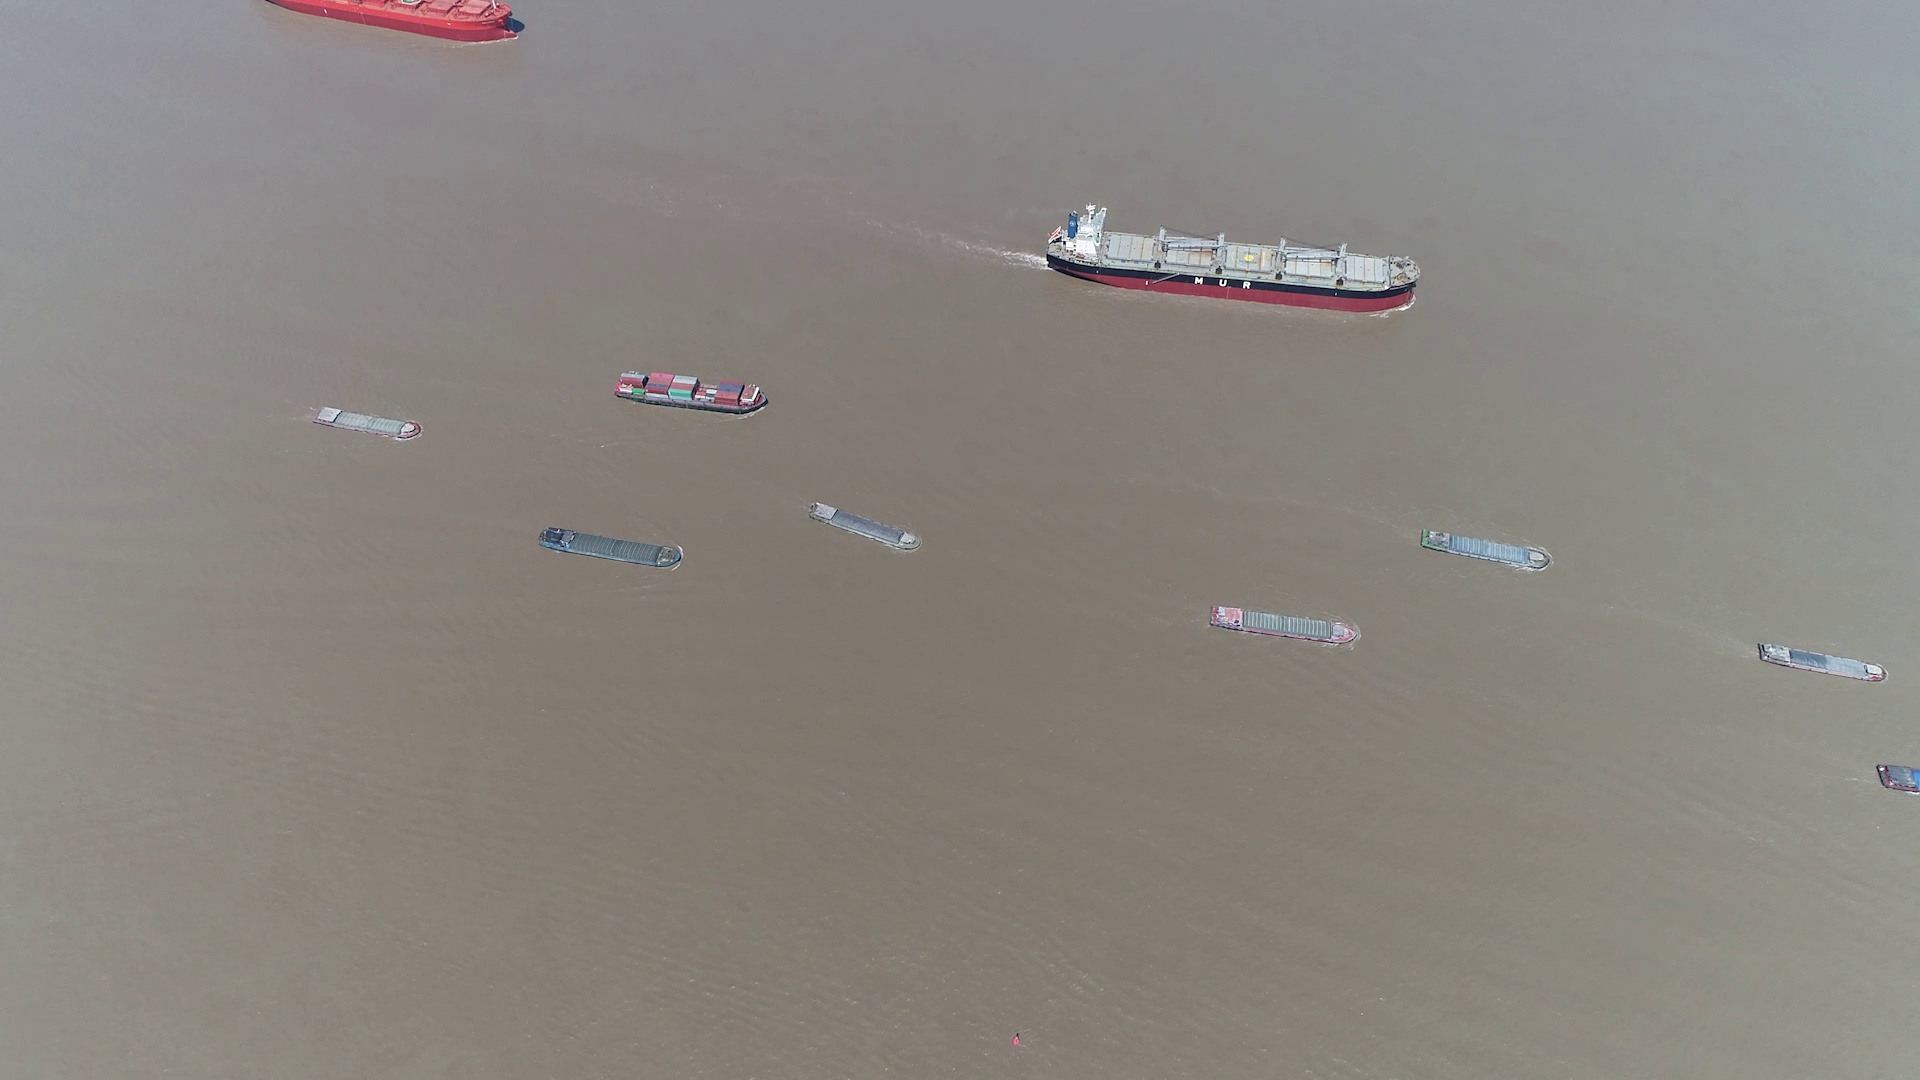ship: (1048, 207, 1422, 309), (265, 0, 524, 46), (615, 372, 770, 415), (1211, 607, 1360, 646), (541, 527, 684, 568), (1422, 527, 1552, 571), (810, 502, 920, 553), (1758, 642, 1888, 683), (313, 406, 421, 440), (1876, 764, 1919, 796)
